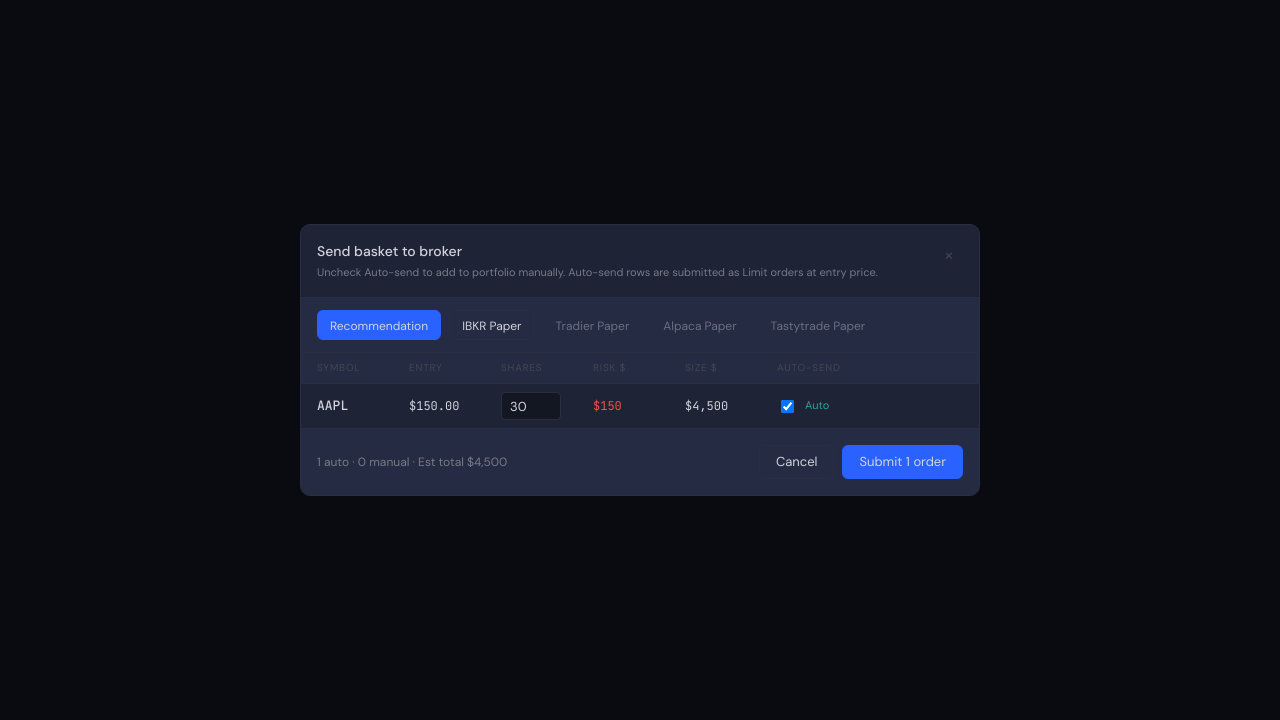
Test case: keeps Bullish broker sends unavailable while research saves remain available
The width and height of the screenshot is (1280, 720).
Click the button "IBKR Paper": (492, 325) [449,310,534,340]
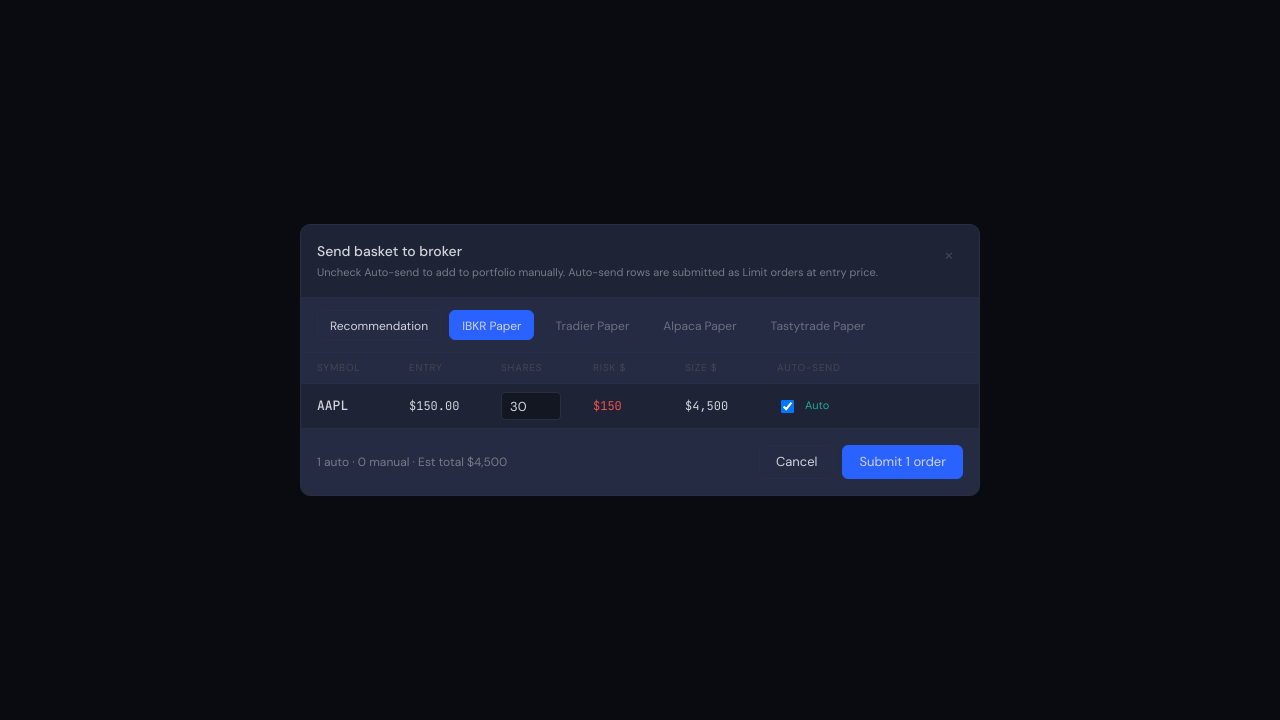
Click the button "Submit 1 order": (903, 462) [842,445,963,479]
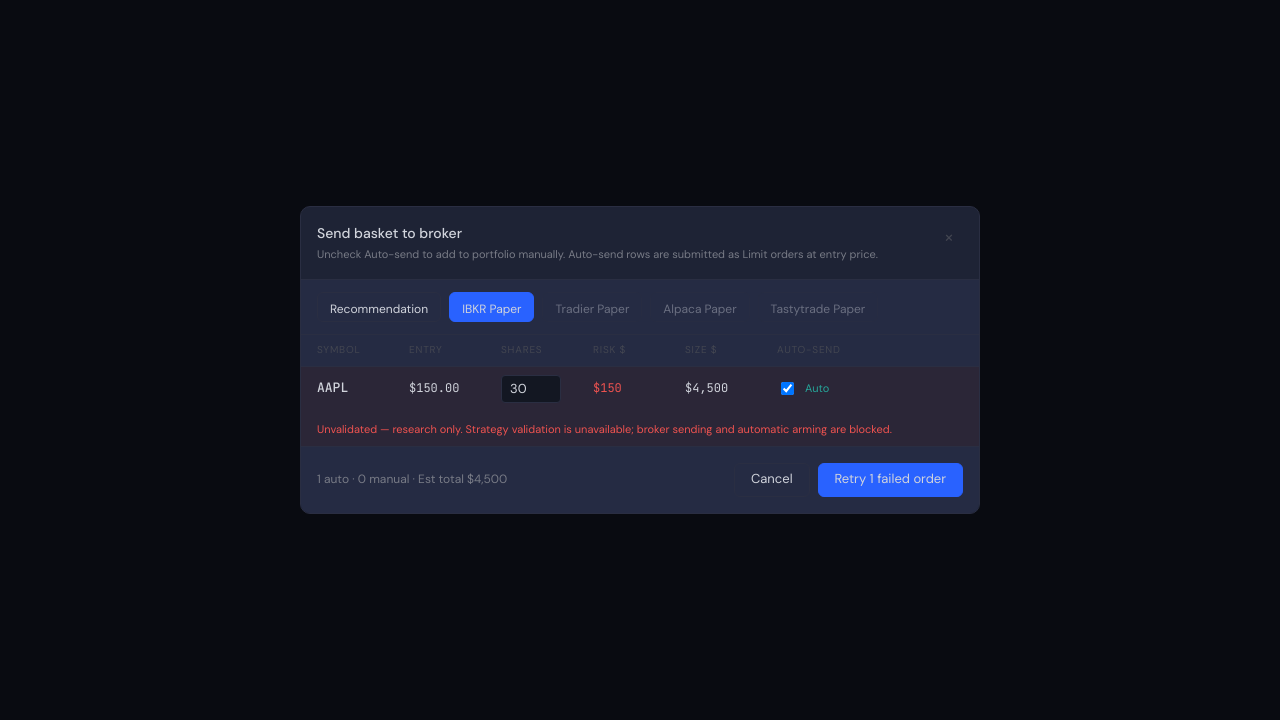
Check: the text "Unvalidated" is shown, box [317,422,892,436]
